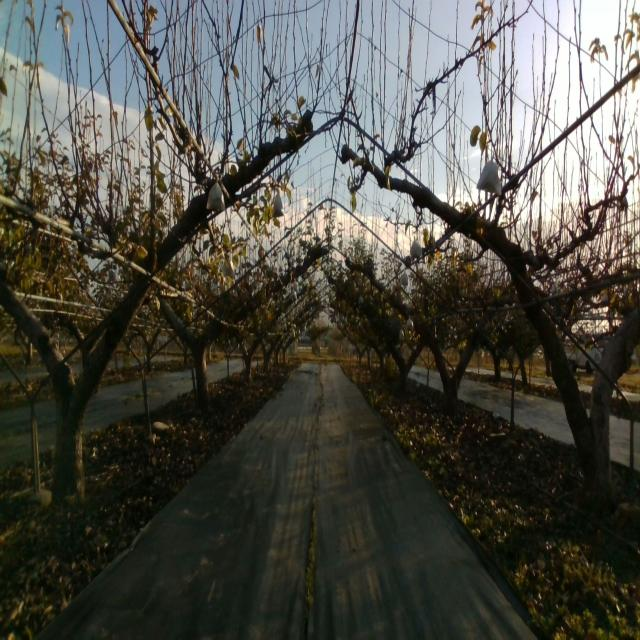pearbags: (476, 150, 502, 197), (206, 174, 226, 211), (410, 235, 423, 260), (272, 192, 285, 216), (222, 259, 236, 278)
